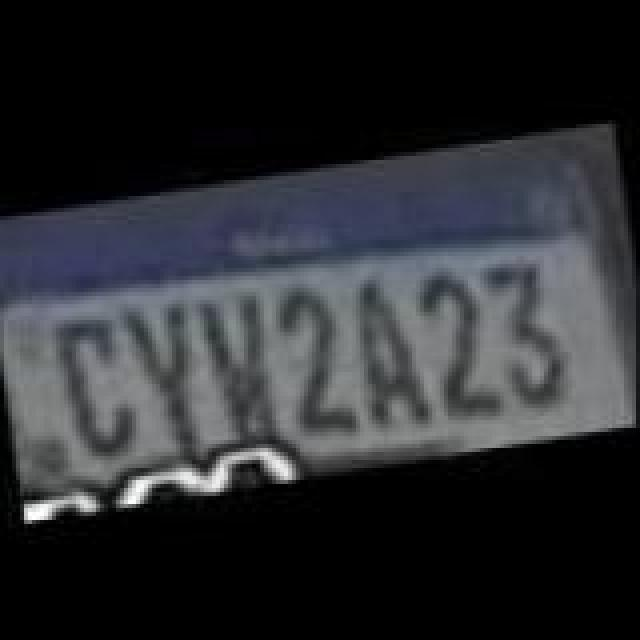2: (266, 272, 366, 448), (404, 258, 504, 430)
3: (480, 248, 580, 408)
A: (340, 264, 436, 444)
C: (54, 308, 138, 460)
W: (192, 274, 288, 450)
Y: (124, 294, 212, 454)
